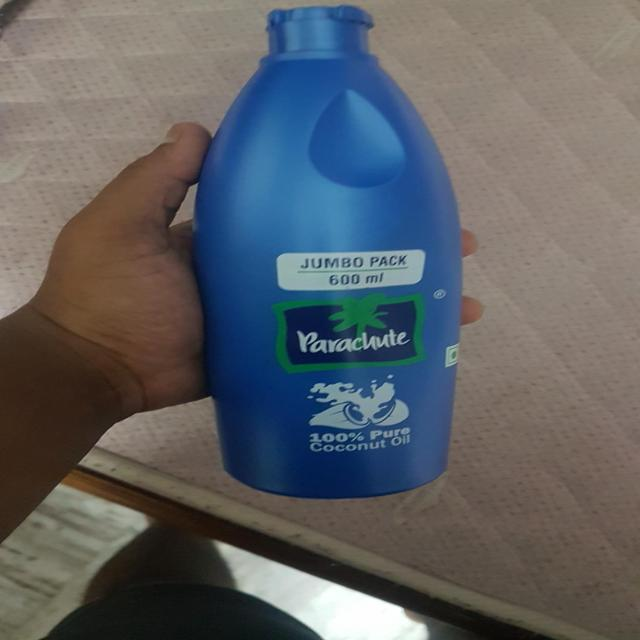parachute_oil: (173, 4, 510, 507)
